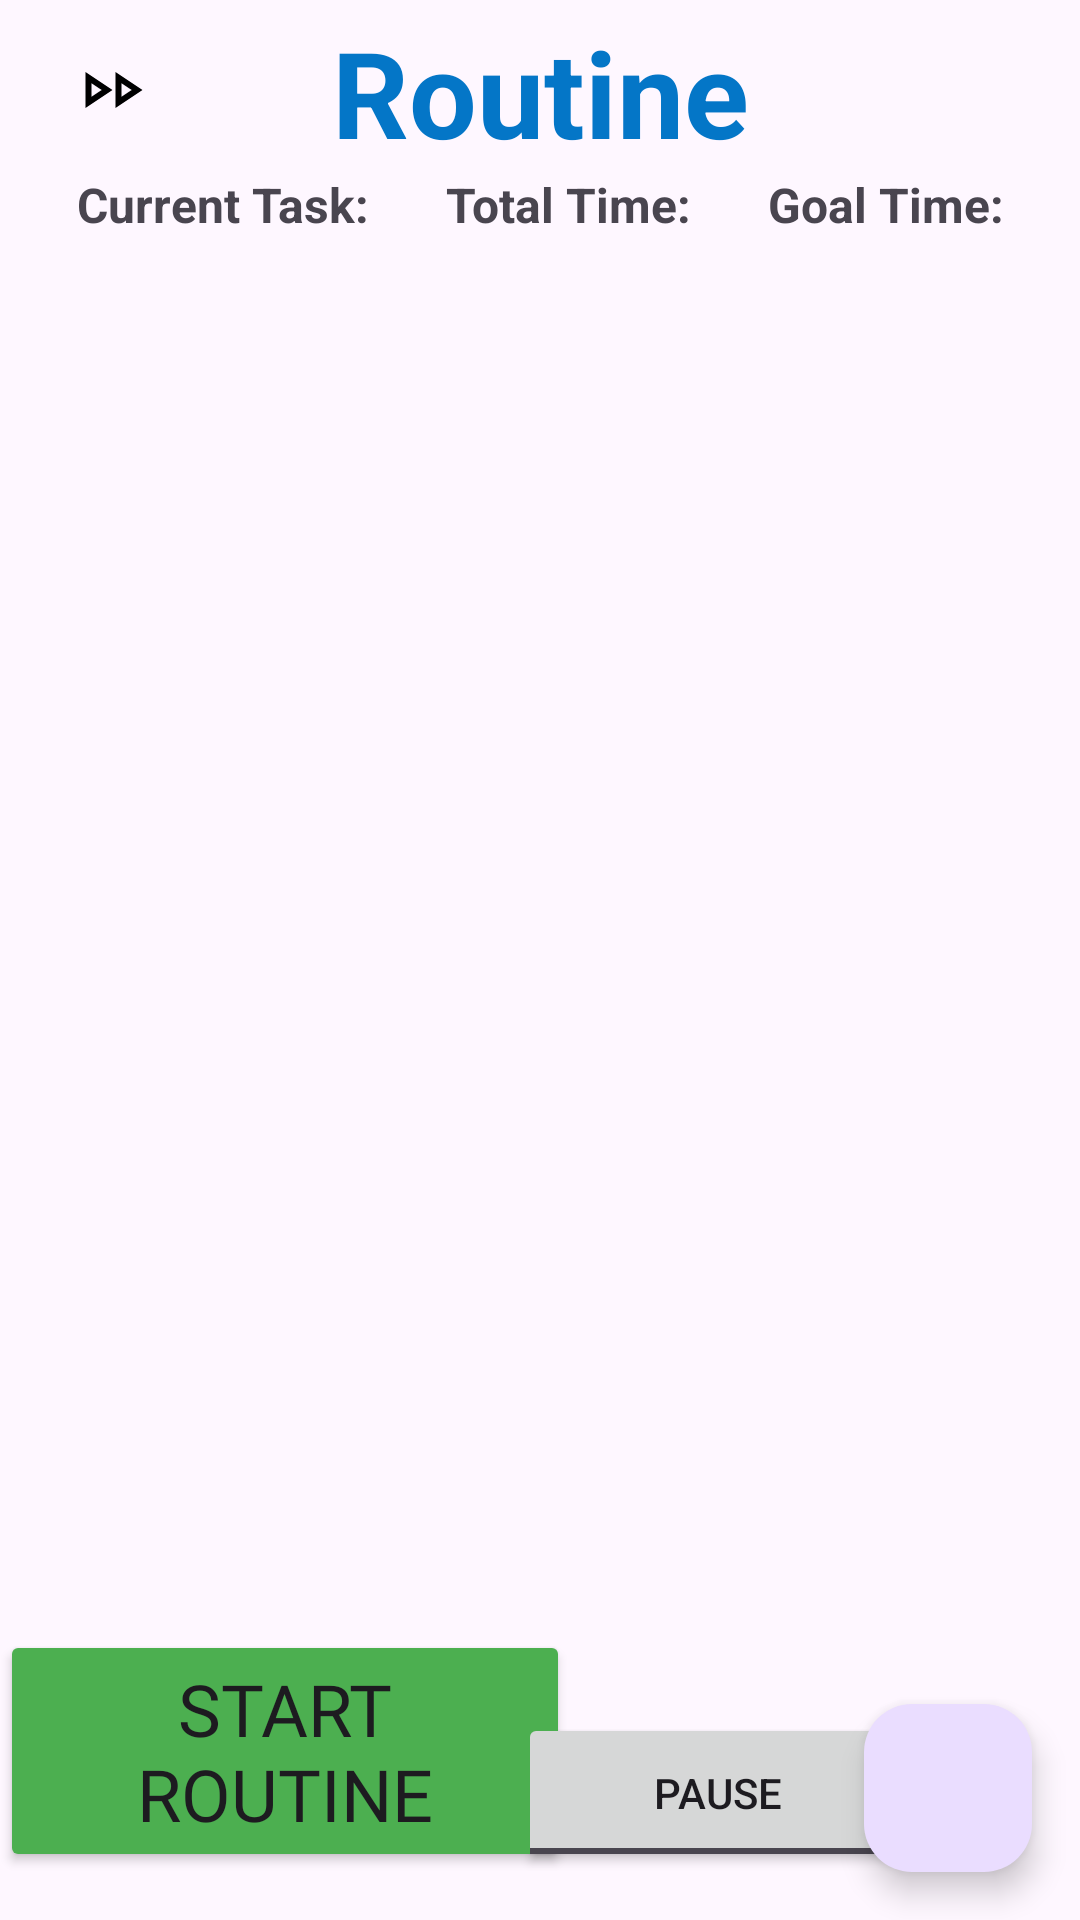

Named icons in this screenshot (1080w x 1920h) and their centers, point (x, y):
advance time: point (113, 90)
